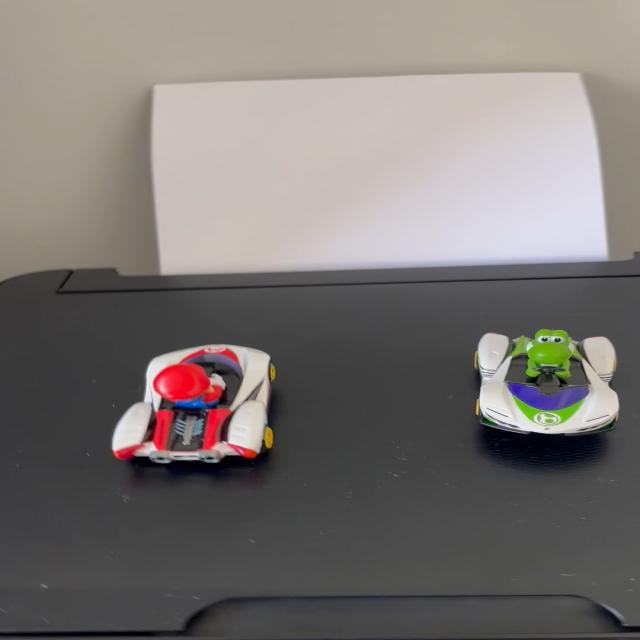mario: (95, 336, 291, 480)
yoshi: (462, 316, 634, 444)
